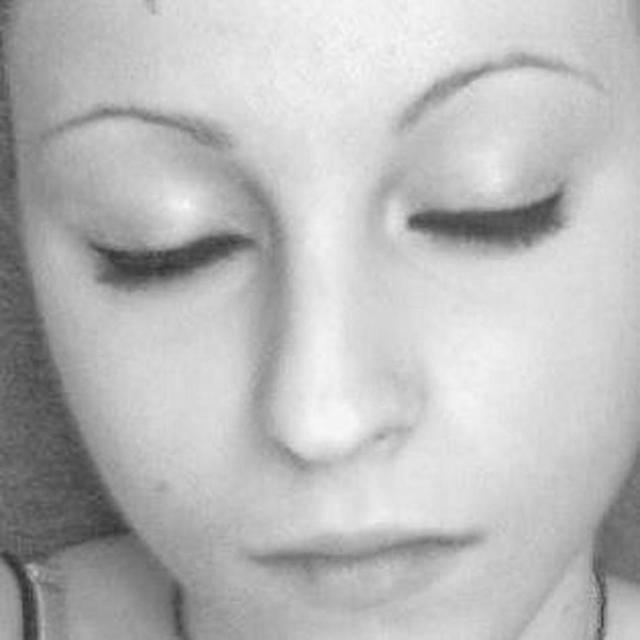real: (0, 0, 640, 640), (48, 159, 609, 287)
